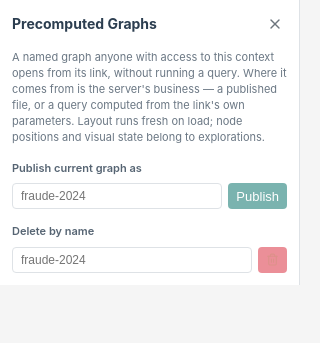
Test: PrecomputedGraphPanel › saving › rejects a name the backend would reject
Type "has spaces" into the field with test id "precomputed-graph-name-input" at (117, 196), box [12,183,222,209]
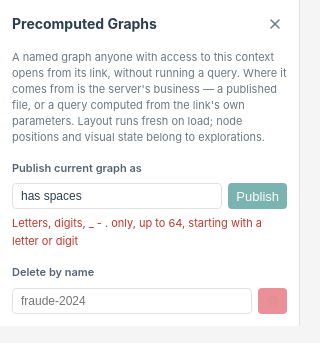
Expected: the button with test id "precomputed-graph-save-button" is disabled, [228,183,287,209]
Result: the text "Letters, digits" is shown at [12,216,262,248]
